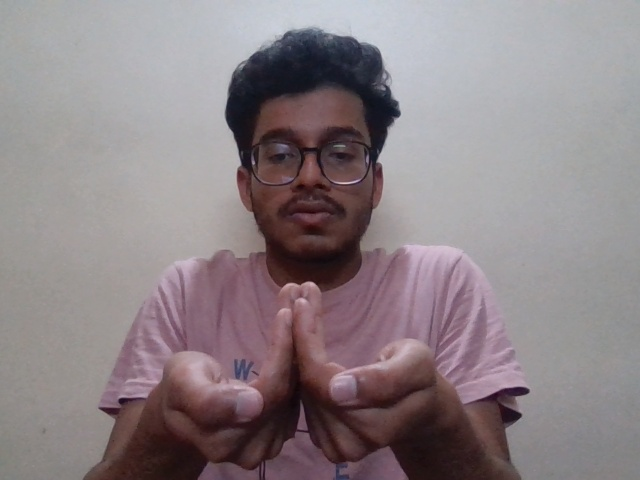tomorrow: (122, 282, 457, 467)
